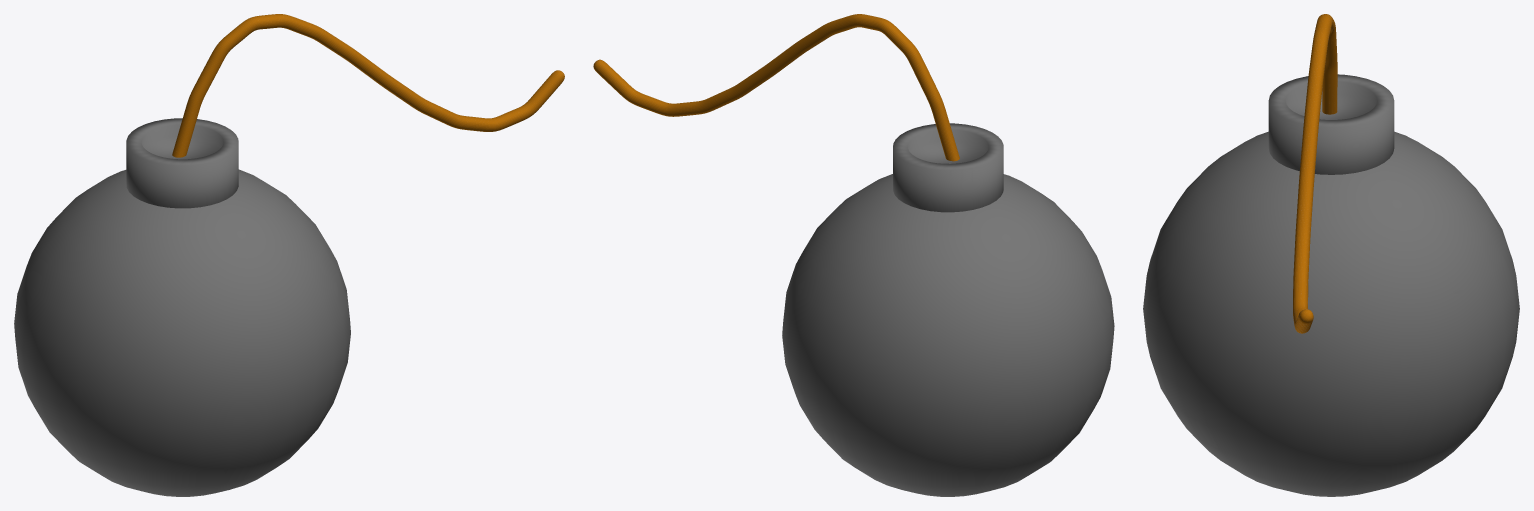
The model's file is Bomb.fbx.
The picture shows the model from 3 angles, left to right: view 1: azimuth 30°, elevation 25°; view 2: azimuth 150°, elevation 25°; view 3: azimuth 270°, elevation 25°; orthographic projection. The views are drawn at different scales.
Parts seen in each view (by area): view 1: Sphere; view 2: Sphere; view 3: Sphere.
Part boxes in pixels (bbox=[...]): Sphere: bbox=[14, 14, 564, 496]; Sphere: bbox=[593, 14, 1114, 496]; Sphere: bbox=[1143, 14, 1519, 496].
Size of the model in its own units: 353 by 294 by 200.
